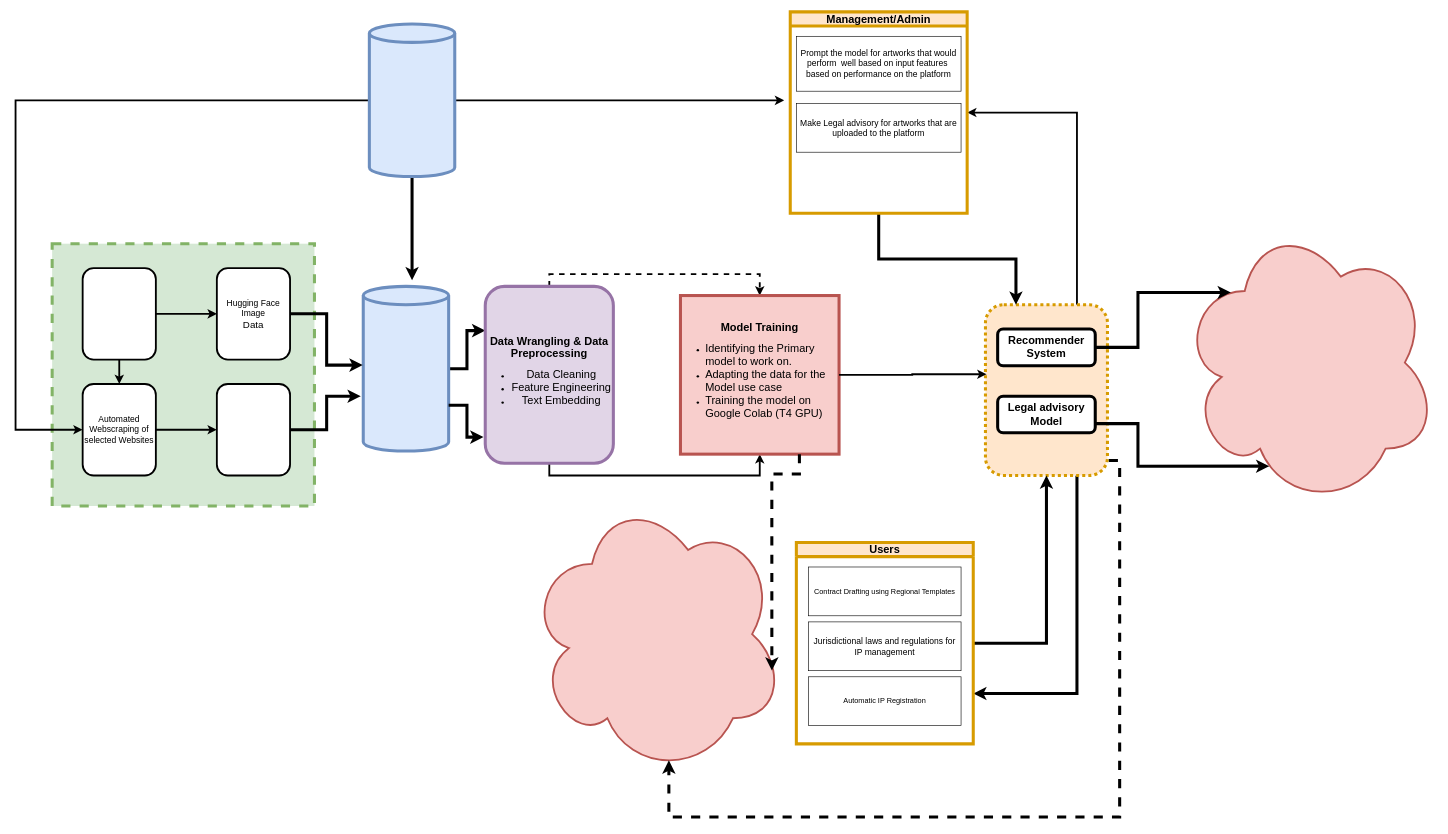
This 1448x834 diagram has some shape labels left out. The shapes that lost their labels are listed below. From the top down, each one's centre as x and y in pixels, then its label:
[412,100]: Service Database
[118,313]: Kaggle Artwork Data Kaggle Images
[405,368]: ML Database Supervised Learning Data Legal Advisory Data NLP corpus
[1308,362]: aws Azure Singularitynet
[253,429]: Kaggle text Amazon Text
[656,634]: Google Colab
